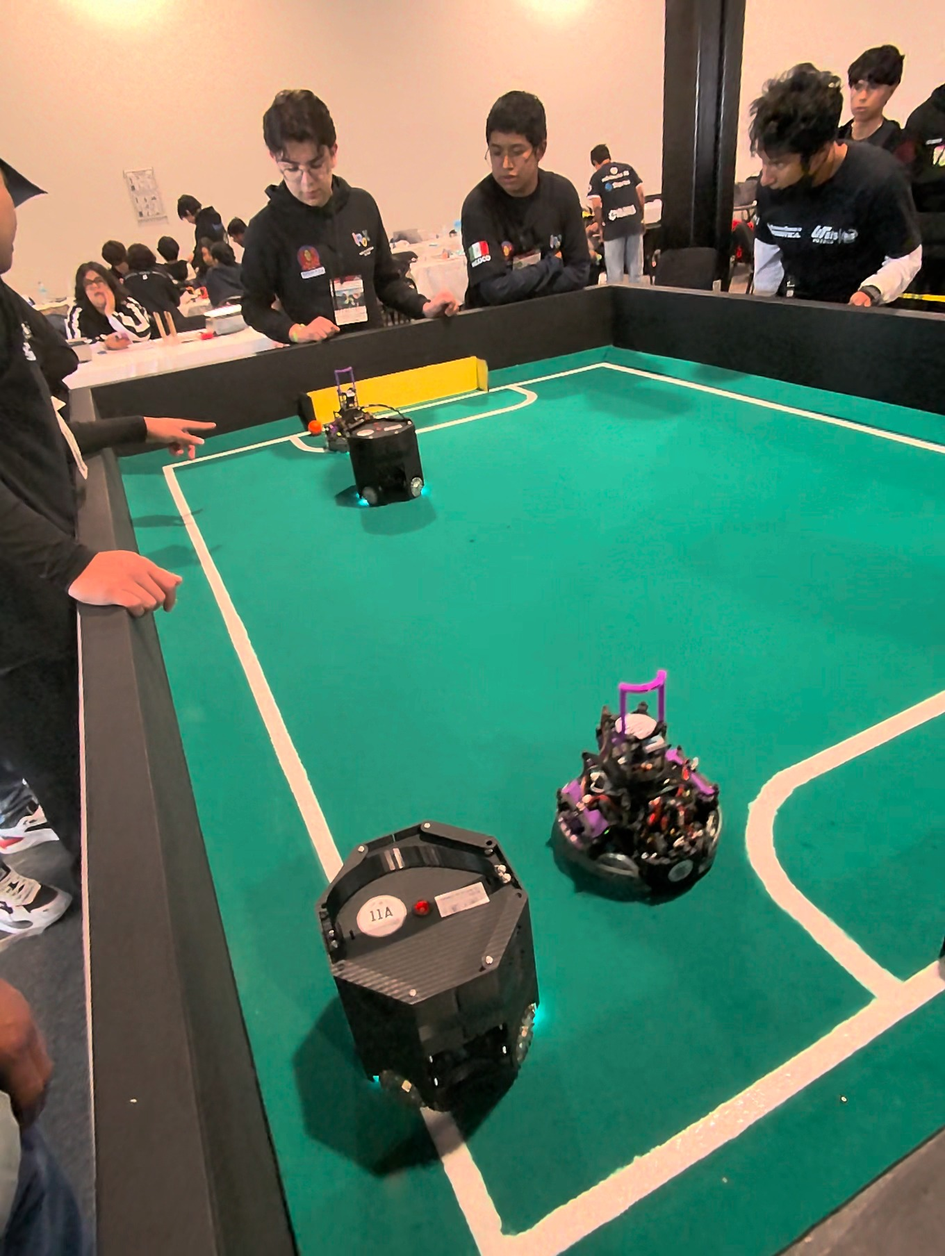Robot: (313, 797, 562, 1117), (555, 694, 725, 914), (333, 374, 439, 534), (310, 362, 375, 454)
pelota: (296, 410, 333, 445)
